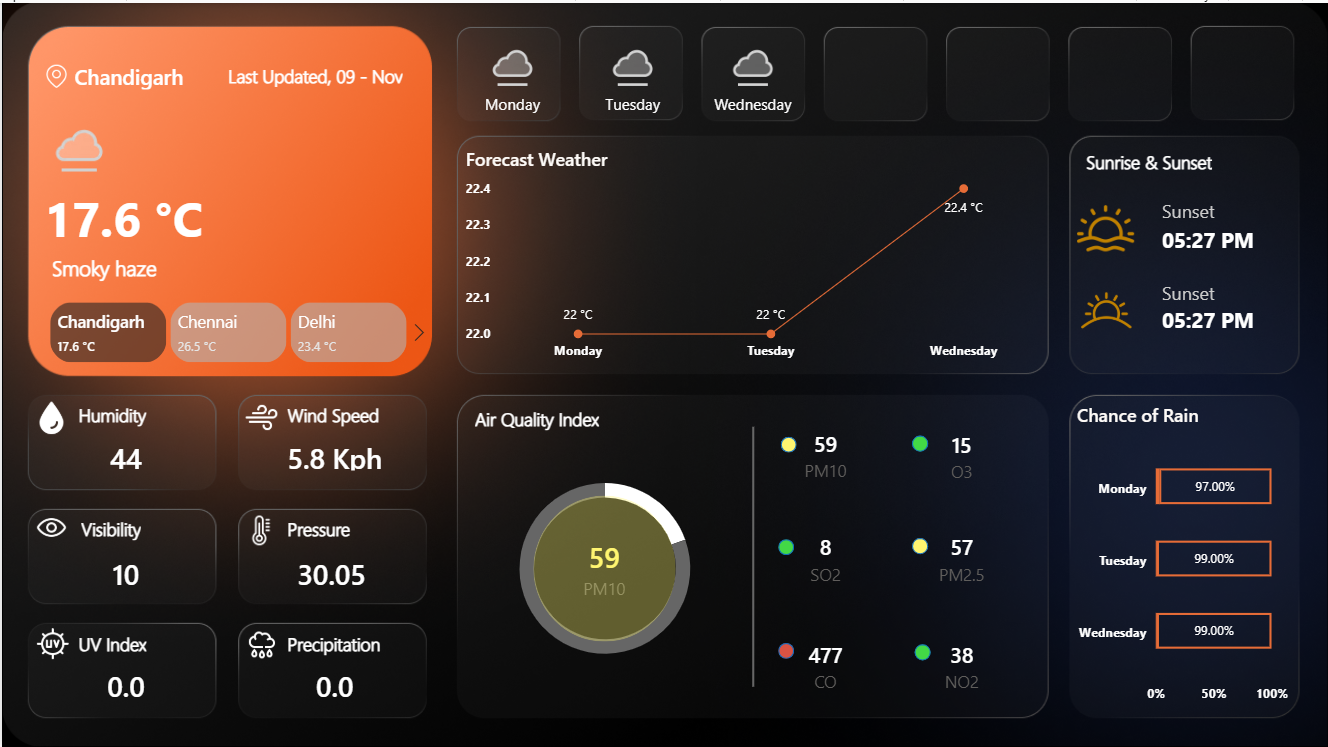

The dashboard page shown, as its layout file describes it:
{"tool":"powerbi","page":{"name":"Page 1","canvas":[1280,720],"ordinal":0},"visuals":[{"type":"advancedSlicerVisual","fields":{"Values":["Locations.location.name"]},"box":[26.2,278.8,386.2,78.8],"z":0},{"type":"shape","box":[35,174.9,166.5,63.9],"z":1000},{"type":"shape","box":[42.2,238.9,358.3,32.6],"z":2000},{"type":"shape","box":[63.9,50.7,135.1,39.8],"z":3000},{"type":"shape","box":[212.3,48.3,188.2,43.4],"z":4000},{"type":"image","box":[41,55.5,22.9,30.2],"z":5000},{"type":"cardVisual","fields":{"Data":["Min(current.current.condition.icon)"]},"box":[26.9,90.5,96.6,95.4],"z":6000},{"type":"image","box":[31.2,488.8,32.5,35],"z":7000},{"type":"shape","box":[67.5,492.5,136.2,30],"z":8000},{"type":"image","box":[30,383.8,35,33.8],"z":9000},{"type":"image","box":[233.8,495,32.5,28.8],"z":10000},{"type":"image","box":[233.8,383.8,32.5,32.5],"z":11000},{"type":"image","box":[32.5,601.2,32.5,35],"z":12000},{"type":"image","box":[235,600,31.2,40],"z":13000},{"type":"shape","box":[65,382.5,136.2,30],"z":14000},{"type":"shape","box":[266.2,382.5,136.2,30],"z":15000},{"type":"shape","box":[266.2,492.5,136.2,30],"z":16000},{"type":"shape","box":[65,603.8,136.2,30],"z":17000},{"type":"shape","box":[266.2,603.8,136.2,30],"z":18000},{"type":"cardVisual","fields":{"Data":["Sum(current.current.humidity)"]},"box":[61.2,406.2,116.2,62.5],"z":19000},{"type":"cardVisual","fields":{"Data":["_Meajors.Wind_Speed"]},"box":[246.2,406.2,150,62.5],"z":20000},{"type":"cardVisual","fields":{"Data":["Sum(current.current.vis_km)"]},"box":[61.2,518.8,116.2,62.5],"z":21000},{"type":"cardVisual","fields":{"Data":["Sum(current.current.pressure_in)"]},"box":[255,518.8,127.5,62.5],"z":22000},{"type":"cardVisual","fields":{"Data":["Sum(current.current.uv)"]},"box":[61.2,626.2,116.2,62.5],"z":23000},{"type":"cardVisual","fields":{"Data":["Sum(current.current.precip_in)"]},"box":[262.5,626.2,116.2,62.5],"z":24000},{"type":"advancedSlicerVisual","fields":{"Values":["forcast.Day_Name"]},"box":[436.2,17.5,345,102.5],"z":25000},{"type":"lineChart","title":"Forecast Weather","fields":{"Y":["Sum(forcast.forecast.forecastday.day.avgtemp_c)"],"Category":["forcast.Day_Name"]},"box":[447.5,138.8,555,210],"z":26000},{"type":"shape","box":[1037.5,137.5,151.2,30],"z":27000},{"type":"shape","box":[1113.8,201.2,127.5,53.8],"z":28000},{"type":"shape","box":[1113.8,278.8,127.5,53.8],"z":29000},{"type":"shape","title":"Sunrise","box":[1113.8,185,127.5,32.5],"z":30000},{"type":"shape","title":"Sunset","box":[1113.8,261.2,127.5,35],"z":31000},{"type":"image","box":[1037.5,188.8,55,58.8],"z":32000},{"type":"image","box":[1027.5,263.8,76.2,65],"z":33000},{"type":"hundredPercentStackedBarChart","title":"Chance of Rain","fields":{"Y":["Sum(forcast.forecast.forecastday.day.daily_chance_of_rain)","_Meajors.Left_value_rain"],"Category":["forcast.Day_Name"]},"box":[1037.5,386.2,203.8,293.8],"z":34000},{"type":"shape","box":[447.5,386.2,151.2,30],"z":35000},{"type":"cardVisual","fields":{"Data":["Sum(current.current.air_quality.o3)"]},"box":[872.3,393.3,108.6,89.3],"z":36000},{"type":"cardVisual","fields":{"Data":["Sum(current.current.air_quality.pm2_5)"]},"box":[872.5,492.6,108.5,89.1],"z":37000},{"type":"cardVisual","fields":{"Data":["Sum(current.current.air_quality.pm10)"]},"box":[740.3,392.4,108.5,89.1],"z":38000},{"type":"cardVisual","fields":{"Data":["Sum(current.current.air_quality.so2)"]},"box":[740.3,492.6,108.5,89.1],"z":39000},{"type":"cardVisual","fields":{"Data":["Sum(current.current.air_quality.co)"]},"box":[740.3,595.6,108.5,89.1],"z":40000},{"type":"cardVisual","fields":{"Data":["Sum(current.current.air_quality.no2)"]},"box":[872.5,595.6,108.5,89.1],"z":41000},{"type":"shape","box":[751.5,418.9,15.3,15.3],"z":42000},{"type":"shape","box":[748.7,517.7,15.3,15.3],"z":43000},{"type":"shape","box":[748.7,617.9,15.3,15.3],"z":43001},{"type":"shape","box":[878.3,417.4,15.7,15.7],"z":43002},{"type":"shape","box":[878.3,516.4,15.7,15.7],"z":43003},{"type":"shape","box":[880.7,618.9,15.7,15.7],"z":43004},{"type":"shape","box":[649.1,409,152,250.9],"z":43005},{"type":"cardVisual","fields":{"Data":["Sum(current.current.air_quality.pm10)"]},"box":[518.8,498.3,125.5,95.3],"z":43006},{"type":"donutChart","fields":{"Y":["Sum(current.current.air_quality.pm10)","_Measures.LeftValuePM10"]},"box":[447.6,437.9,269,216],"z":43007},{"type":"shape","box":[512.7,475.3,137.5,141.2],"z":43008}]}

Visuals, with their boxes in screenshot pixels (x1, y1, x2, y2), scaled from the page's 1280x720 canvas onto the 1328x747 screenshot:
advancedSlicerVisual - Locations.location.name: detection(27, 289, 428, 371)
shape: detection(36, 181, 209, 248)
shape: detection(44, 248, 416, 282)
shape: detection(66, 53, 206, 94)
shape: detection(220, 50, 416, 95)
image: detection(43, 58, 66, 89)
cardVisual - Min(current.current.condition.icon): detection(28, 94, 128, 193)
image: detection(32, 507, 66, 543)
shape: detection(70, 511, 211, 542)
image: detection(31, 398, 67, 433)
image: detection(243, 514, 276, 543)
image: detection(243, 398, 276, 432)
image: detection(34, 624, 67, 660)
image: detection(244, 622, 276, 664)
shape: detection(67, 397, 209, 428)
shape: detection(276, 397, 417, 428)
shape: detection(276, 511, 417, 542)
shape: detection(67, 626, 209, 658)
shape: detection(276, 626, 417, 658)
cardVisual - Sum(current.current.humidity): detection(63, 421, 184, 486)
cardVisual - _Meajors.Wind_Speed: detection(255, 421, 411, 486)
cardVisual - Sum(current.current.vis_km): detection(63, 538, 184, 603)
cardVisual - Sum(current.current.pressure_in): detection(265, 538, 397, 603)
cardVisual - Sum(current.current.uv): detection(63, 650, 184, 715)
cardVisual - Sum(current.current.precip_in): detection(272, 650, 393, 715)
advancedSlicerVisual - forcast.Day_Name: detection(453, 18, 810, 125)
"Forecast Weather" lineChart: detection(464, 144, 1040, 362)
shape: detection(1076, 143, 1233, 174)
shape: detection(1156, 209, 1288, 265)
shape: detection(1156, 289, 1288, 345)
"Sunrise" shape: detection(1156, 192, 1288, 226)
"Sunset" shape: detection(1156, 271, 1288, 307)
image: detection(1076, 196, 1133, 257)
image: detection(1066, 274, 1145, 341)
"Chance of Rain" hundredPercentStackedBarChart: detection(1076, 401, 1288, 706)
shape: detection(464, 401, 621, 432)
cardVisual - Sum(current.current.air_quality.o3): detection(905, 408, 1018, 501)
cardVisual - Sum(current.current.air_quality.pm2_5): detection(905, 511, 1018, 604)
cardVisual - Sum(current.current.air_quality.pm10): detection(768, 407, 881, 500)
cardVisual - Sum(current.current.air_quality.so2): detection(768, 511, 881, 604)
cardVisual - Sum(current.current.air_quality.co): detection(768, 618, 881, 710)
cardVisual - Sum(current.current.air_quality.no2): detection(905, 618, 1018, 710)
shape: detection(780, 435, 796, 450)
shape: detection(777, 537, 793, 553)
shape: detection(777, 641, 793, 657)
shape: detection(911, 433, 928, 449)
shape: detection(911, 536, 928, 552)
shape: detection(914, 642, 930, 658)
shape: detection(673, 424, 831, 685)
cardVisual - Sum(current.current.air_quality.pm10): detection(538, 517, 668, 616)
donutChart - Sum(current.current.air_quality.pm10) x _Measures.LeftValuePM10: detection(464, 454, 743, 678)
shape: detection(532, 493, 675, 640)
